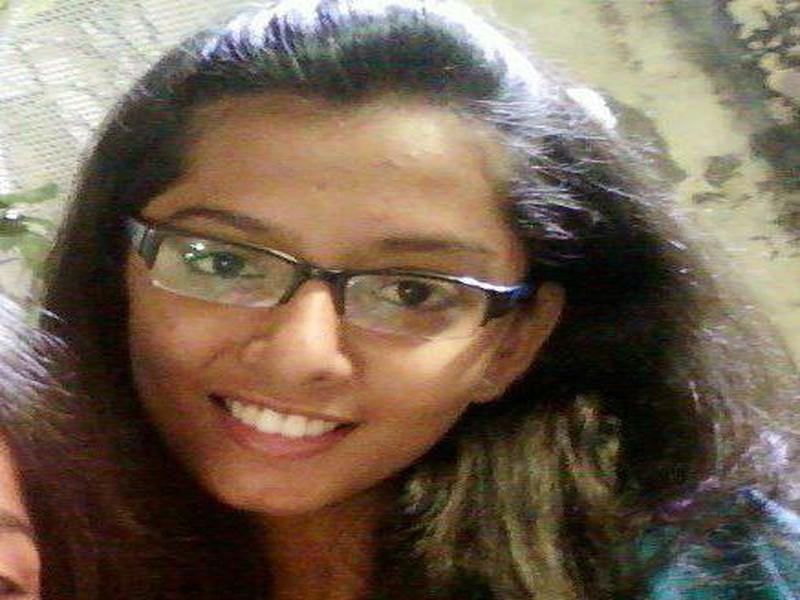without_mask: (117, 102, 517, 516)
